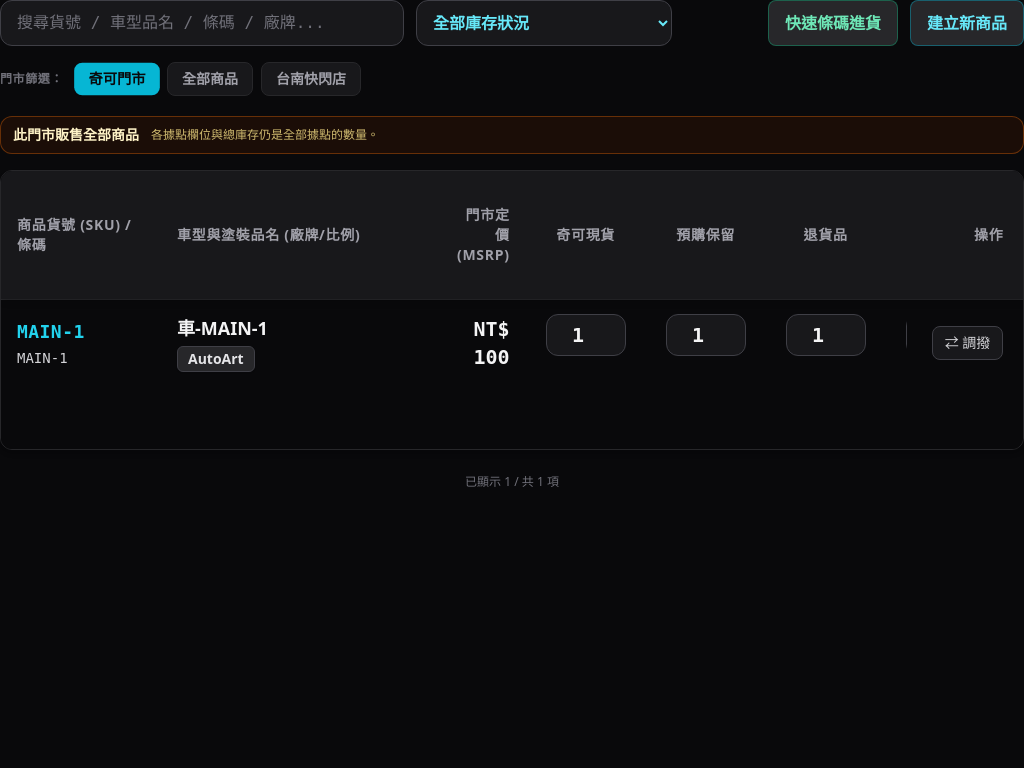
inventory page store filter › shows every product for 全部商品, ordered around the login store, restocking to the login store
Expected: the text "車-MAIN-1" is shown, [177, 316, 268, 340]
Click the button "全部商品".
click(210, 79)  # box [167, 62, 253, 96]
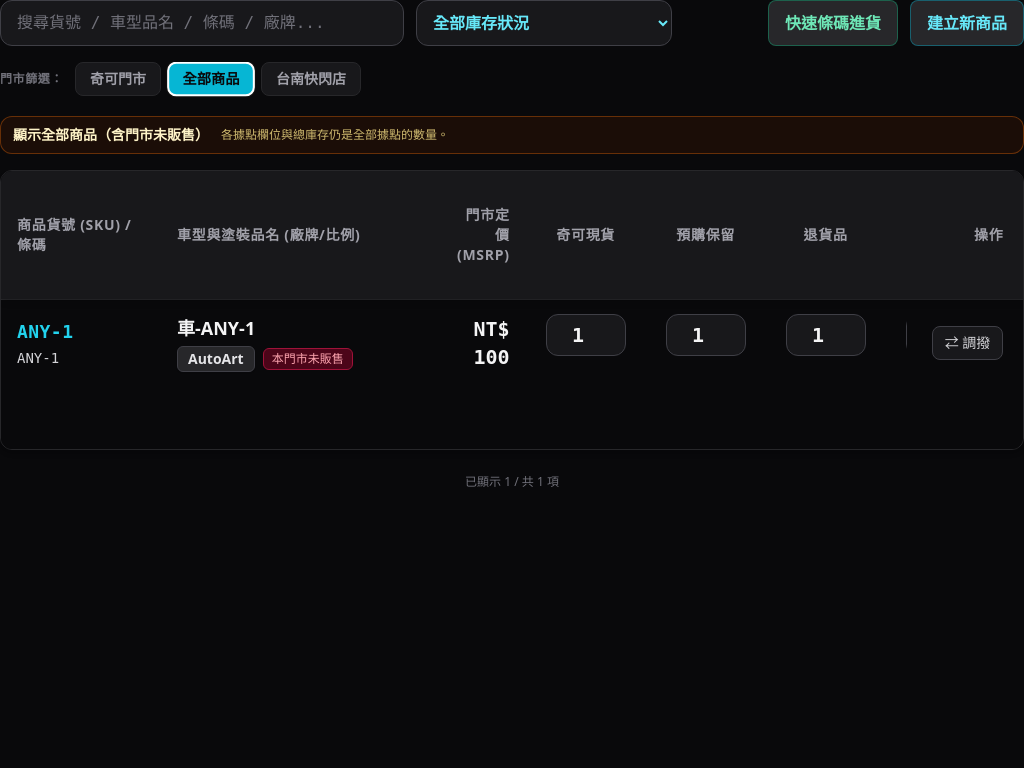
Expected: the text "車-ANY-1" is shown, [177, 316, 255, 340]
Expected: the message with test id "store-product-scope-hint" shows "顯示全部商品", [13, 125, 209, 144]
Expected: the text "本門市未販售" is shown, [263, 348, 353, 370]
Click the button "快速條碼進貨".
click(833, 23)  # box [768, 0, 898, 46]
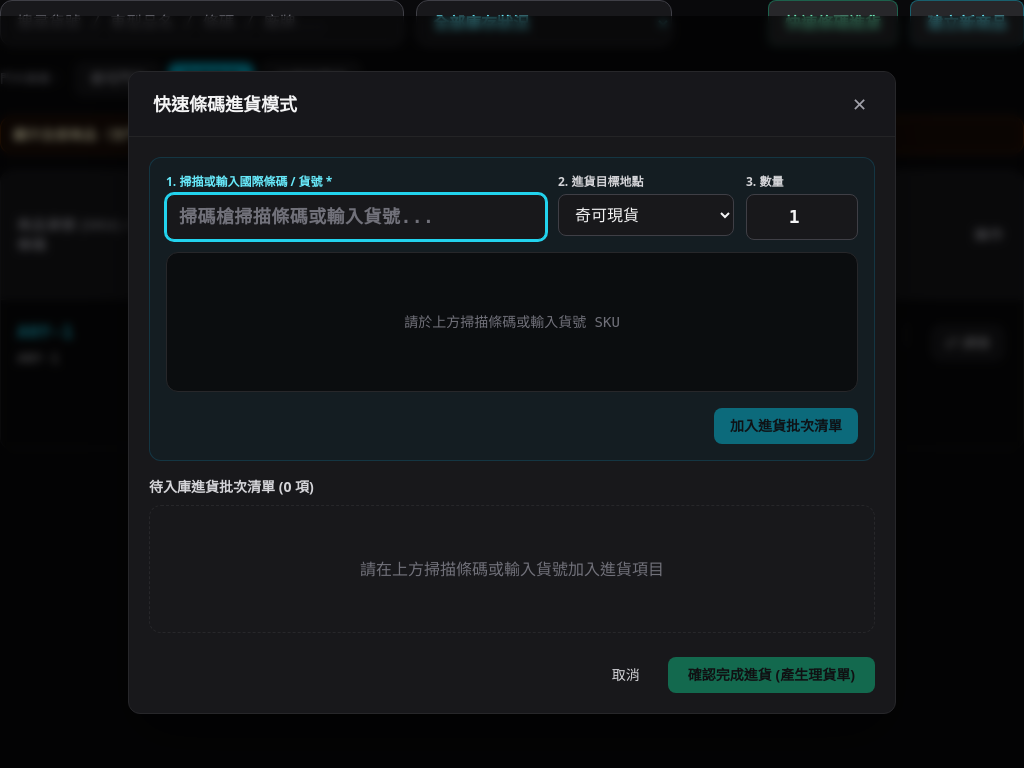
Expected: the dropdown shows "奇可現貨", [558, 194, 734, 236]
